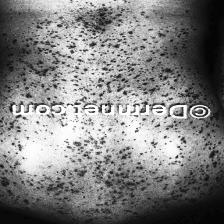Non-Cancerous Skin Condition: (0, 4, 216, 113)
